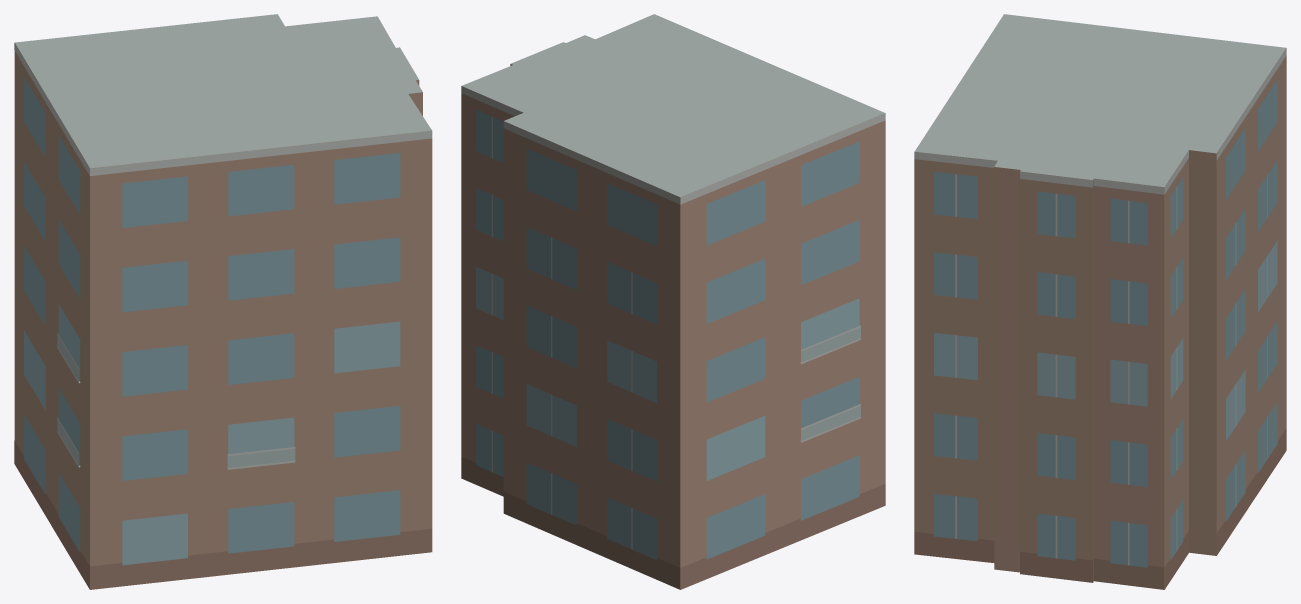
The model's file is survey-upis-32877771.glb.
The picture shows the model from 3 angles, left to right: view 1: azimuth 30°, elevation 25°; view 2: azimuth 150°, elevation 25°; view 3: azimuth 270°, elevation 25°; orthographic projection. The views are drawn at different scales.
Parts seen in each view (by area): view 1: survey-upis-32877771.tmp; view 2: survey-upis-32877771.tmp; view 3: survey-upis-32877771.tmp.
Part boxes in pixels (bbox=[...]): survey-upis-32877771.tmp: bbox=[14, 14, 432, 589]; survey-upis-32877771.tmp: bbox=[461, 14, 885, 589]; survey-upis-32877771.tmp: bbox=[914, 14, 1286, 589].
Bounding box in the file's own units: 12.19 × 13.2 × 11.07.
